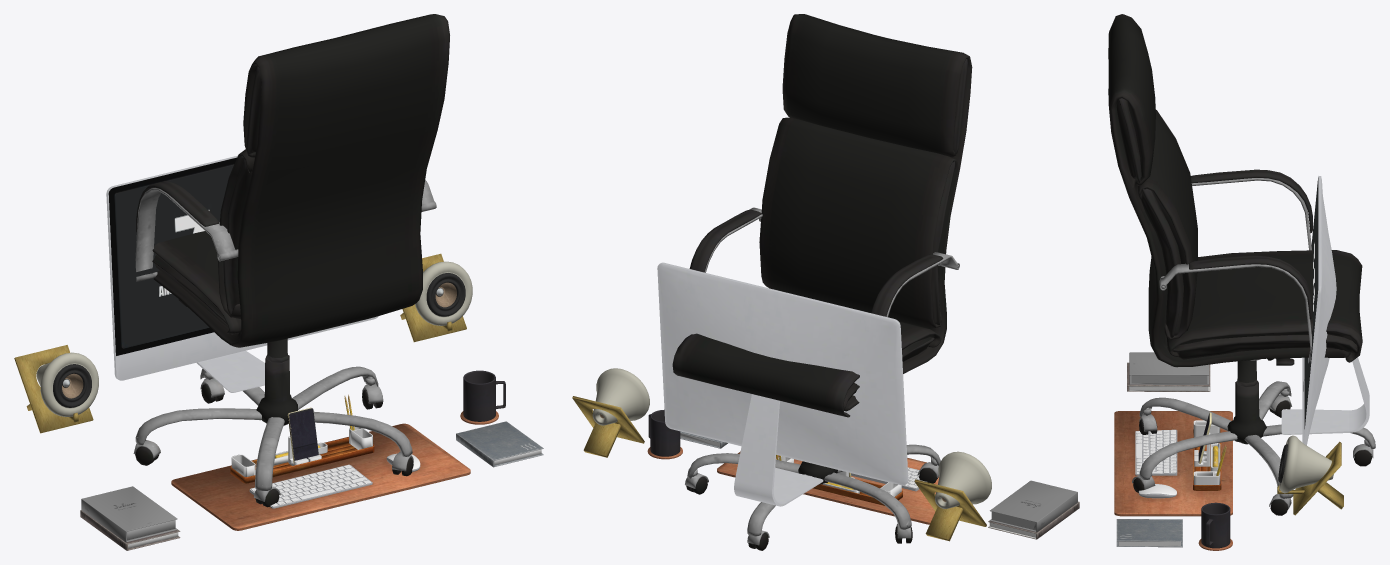
Rendered from desk.glb.
3 views of the same model, side by side, from view 1: azimuth 30°, elevation 25°; view 2: azimuth 150°, elevation 25°; view 3: azimuth 270°, elevation 25° (orthographic). The views are drawn at different scales.
Visible parts, largest first — view 1: Chair_Chair_0, Display_Display_0, Table_Desk_Wooden_Stand_0, Speaker_02_Speaker_0, Speaker_01_Speaker_0, Book_03_Book_03_0, Book_01_Book_01_0, Keyboard_Keyboard_0, Cup_Cup_0, Organizer_Wooden_Organizer_0, Smartphone_Smartphone_0, Book_02_Book_02_0; view 2: Chair_Chair_0, Display_Display_0, Speaker_02_Speaker_0, Speaker_01_Speaker_0, Book_03_Book_03_0, Table_Desk_Wooden_Stand_0, Cup_Cup_0, Book_02_Book_02_0; view 3: Chair_Chair_0, Table_Desk_Wooden_Stand_0, Display_Display_0, Speaker_01_Speaker_0, Book_03_Book_03_0, Book_01_Book_01_0, Keyboard_Keyboard_0, Cup_Cup_0, Book_02_Book_02_0, Organizer_Wooden_Organizer_0, Mouse_Mouse_0, Plastic_Organizer_01_White_Plastic_0.
Boxes of the visible parts, <box> form: Chair_Chair_0: <box>133,14,449,507</box>; Display_Display_0: <box>106,155,378,392</box>; Table_Desk_Wooden_Stand_0: <box>171,423,470,530</box>; Speaker_02_Speaker_0: <box>14,345,98,433</box>; Speaker_01_Speaker_0: <box>400,253,472,342</box>; Book_03_Book_03_0: <box>81,486,177,542</box>; Book_01_Book_01_0: <box>456,421,543,467</box>; Keyboard_Keyboard_0: <box>249,464,372,508</box>; Cup_Cup_0: <box>463,370,505,421</box>; Organizer_Wooden_Organizer_0: <box>230,437,374,483</box>; Smartphone_Smartphone_0: <box>287,407,318,462</box>; Book_02_Book_02_0: <box>80,510,180,550</box>; Chair_Chair_0: <box>672,14,972,550</box>; Display_Display_0: <box>657,262,908,506</box>; Speaker_02_Speaker_0: <box>914,451,991,541</box>; Speaker_01_Speaker_0: <box>572,368,649,457</box>; Book_03_Book_03_0: <box>990,480,1077,532</box>; Table_Desk_Wooden_Stand_0: <box>717,451,938,524</box>; Cup_Cup_0: <box>648,409,680,456</box>; Book_02_Book_02_0: <box>988,501,1079,539</box>; Chair_Chair_0: <box>1108,14,1375,515</box>; Table_Desk_Wooden_Stand_0: <box>1114,411,1232,516</box>; Display_Display_0: <box>1281,176,1369,445</box>; Speaker_01_Speaker_0: <box>1277,435,1343,515</box>; Book_03_Book_03_0: <box>1129,352,1209,384</box>; Book_01_Book_01_0: <box>1116,519,1182,547</box>; Keyboard_Keyboard_0: <box>1135,429,1177,475</box>; Cup_Cup_0: <box>1201,502,1230,548</box>; Book_02_Book_02_0: <box>1127,362,1210,391</box>; Organizer_Wooden_Organizer_0: <box>1193,429,1221,490</box>; Mouse_Mouse_0: <box>1138,484,1176,498</box>; Plastic_Organizer_01_White_Plastic_0: <box>1193,471,1220,484</box>.
Size of the model in its own units: 1.08 by 1.1 by 0.6428.
Materials: 14 (13 with a texture image).
